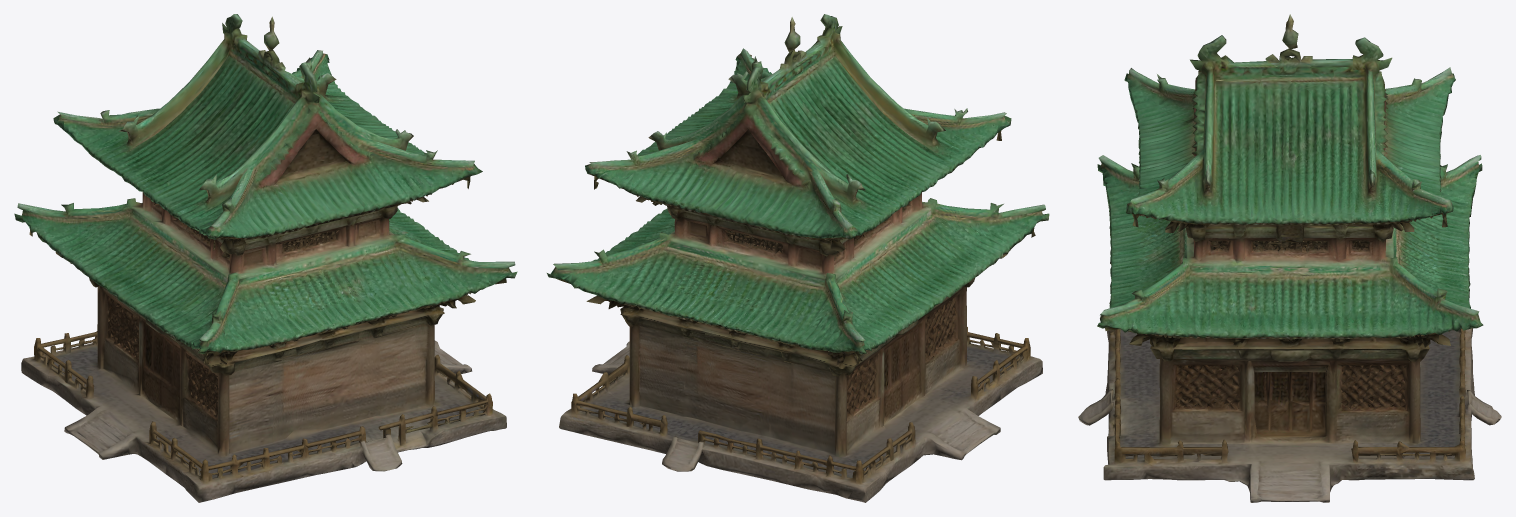
Rendered from building-chongfusi.glb.
3 views of the same model, side by side, from view 1: azimuth 30°, elevation 25°; view 2: azimuth 150°, elevation 25°; view 3: azimuth 270°, elevation 25° (orthographic). The views are drawn at different scales.
Parts seen in each view (by area): view 1: node_9877cc16-84a7-434b-9419-bef2d2112d4d; view 2: node_9877cc16-84a7-434b-9419-bef2d2112d4d; view 3: node_9877cc16-84a7-434b-9419-bef2d2112d4d.
Boxes of the visible parts, x1,y1,x2,y2 form: node_9877cc16-84a7-434b-9419-bef2d2112d4d: (14, 14, 517, 502); node_9877cc16-84a7-434b-9419-bef2d2112d4d: (547, 14, 1049, 502); node_9877cc16-84a7-434b-9419-bef2d2112d4d: (1078, 14, 1501, 502).
Size of the model in its own units: 1 by 0.9964 by 0.9606.
1 material, 1 textured.
